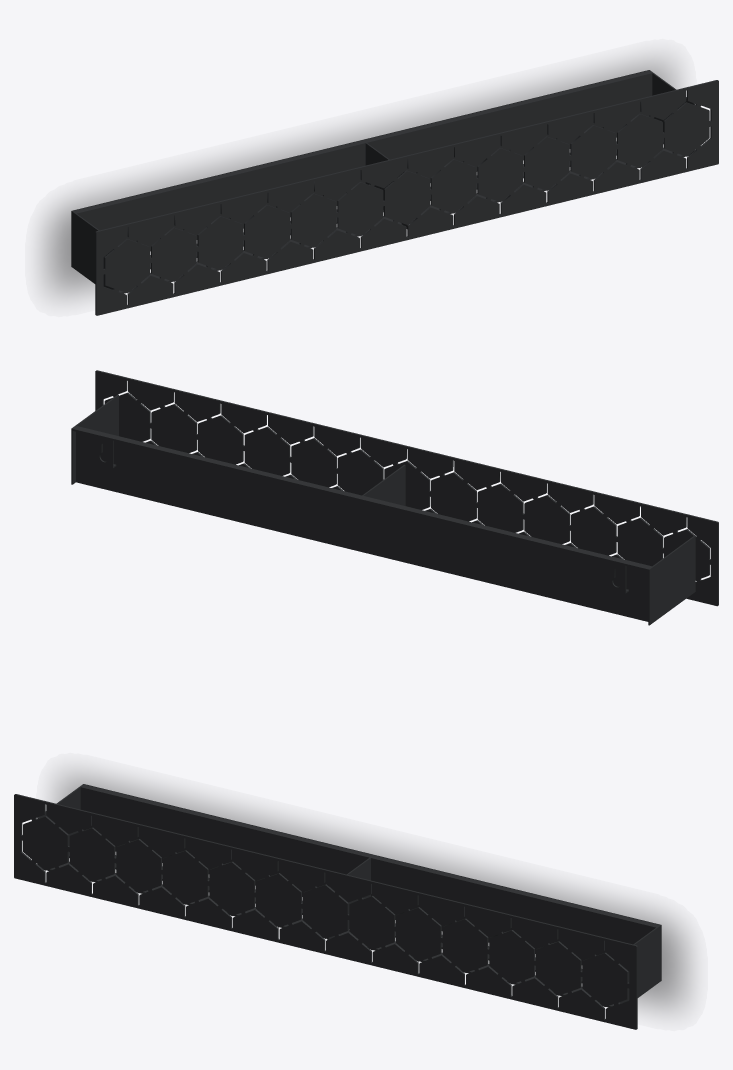
File: bee-mono.da72a75c9e.ar.glb
3 renders of one model, top to bottom at view 1: azimuth 30°, elevation 25°; view 2: azimuth 150°, elevation 25°; view 3: azimuth 330°, elevation 25°, orthographic.
Visible parts, largest first — view 1: NAUO1, object 2; view 2: NAUO1; view 3: NAUO1, object 2.
Part boxes in pixels (x1,y1,x2,y2): NAUO1: [71, 70, 718, 315]; object 2: [42, 59, 678, 296]; NAUO1: [71, 370, 718, 625]; NAUO1: [14, 784, 661, 1029]; object 2: [54, 773, 690, 1010].
Bounding box in the file's own units: 0.78 × 0.17 × 0.092.
Materials: 2 (1 with a texture image).
